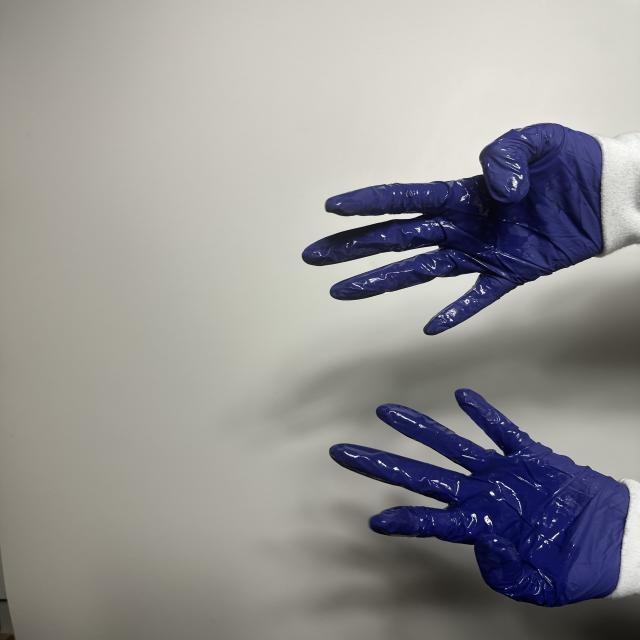gloves_contaminated: (330, 389, 631, 606), (302, 124, 604, 335)
